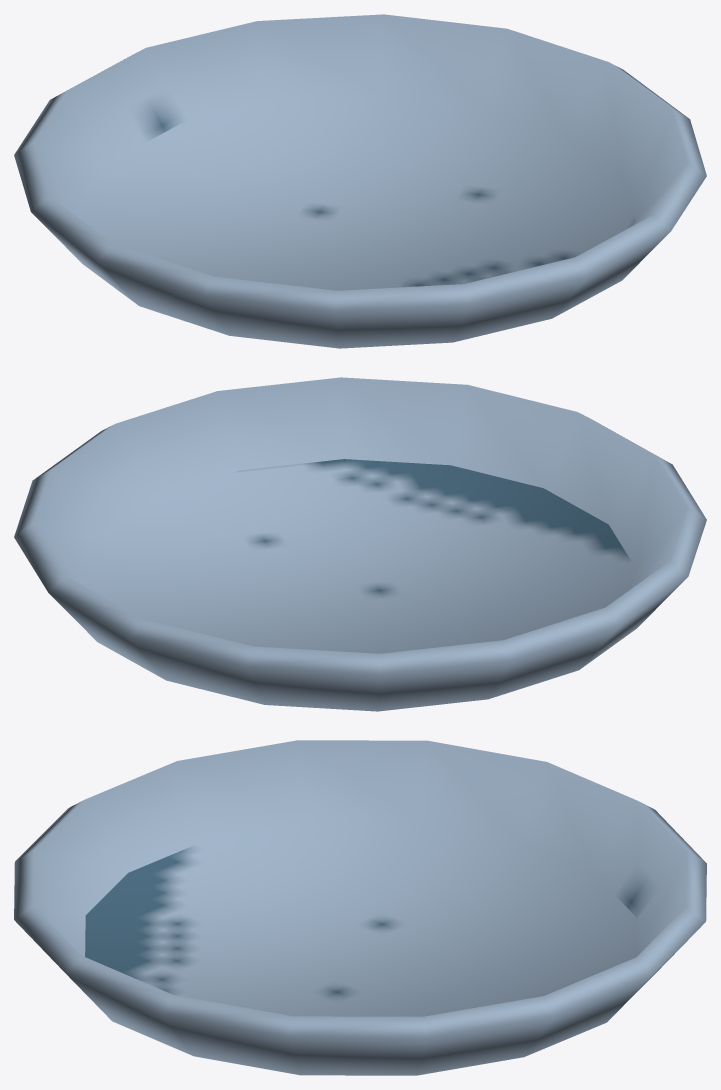
Rendered from Prato.fbx.
3 views of the same model, one above another, from view 1: azimuth 30°, elevation 25°; view 2: azimuth 150°, elevation 25°; view 3: azimuth 270°, elevation 25° (orthographic).
Parts seen in each view (by area): view 1: Prato; view 2: Prato; view 3: Prato.
Boxes of the visible parts, bbox=[...] form: Prato: bbox=[14, 14, 706, 348]; Prato: bbox=[14, 377, 706, 711]; Prato: bbox=[14, 740, 706, 1075].
Size of the model in its own units: 53.62 by 53.62 by 6.3.
